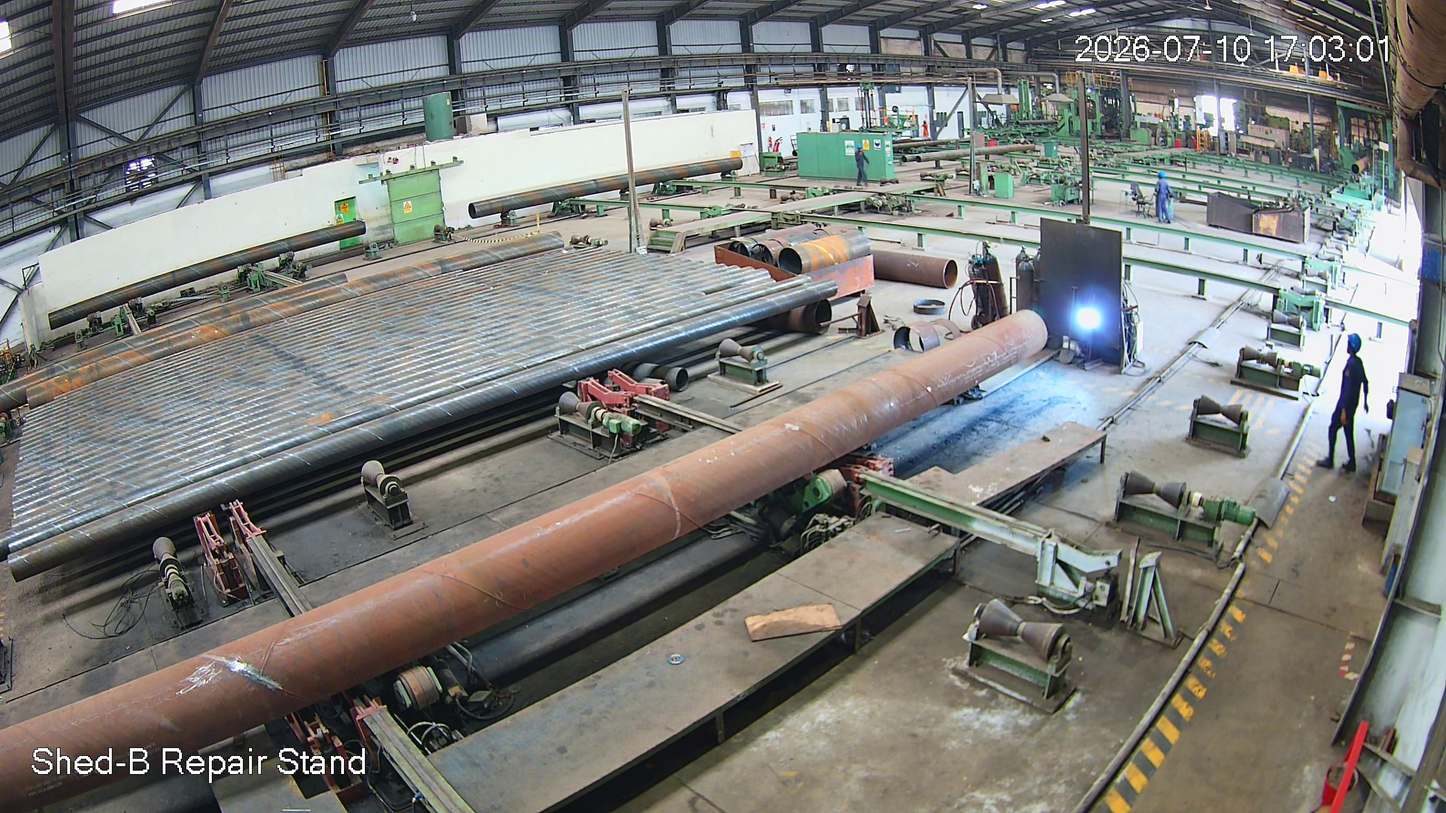Helmet: (1341, 327, 1366, 363)
Person: (1323, 329, 1375, 481)
